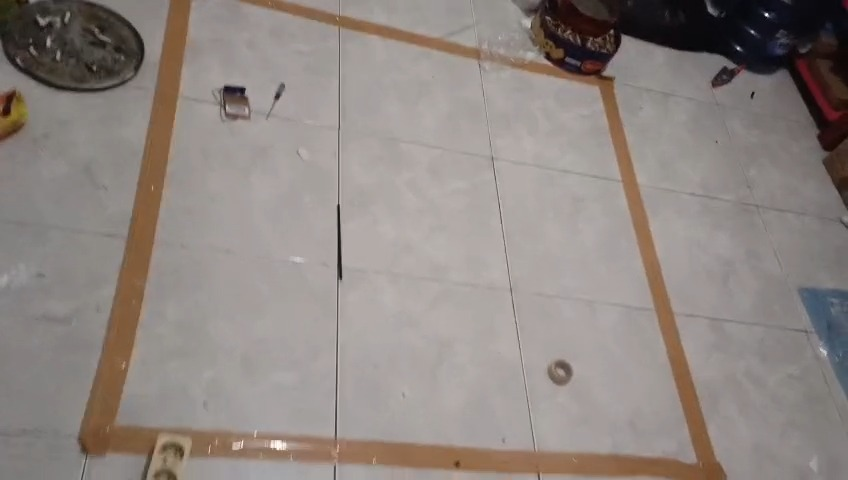floor marking: (179, 63, 724, 479), (80, 0, 190, 454), (271, 0, 479, 60)
